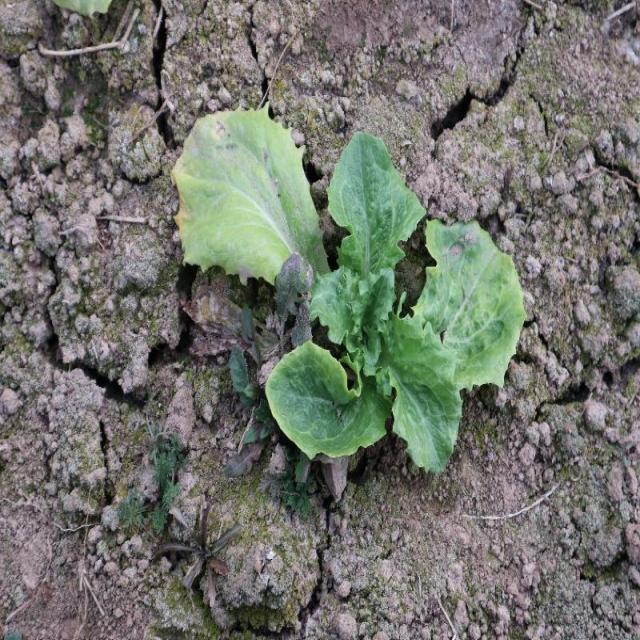crop: (265, 130, 524, 474)
